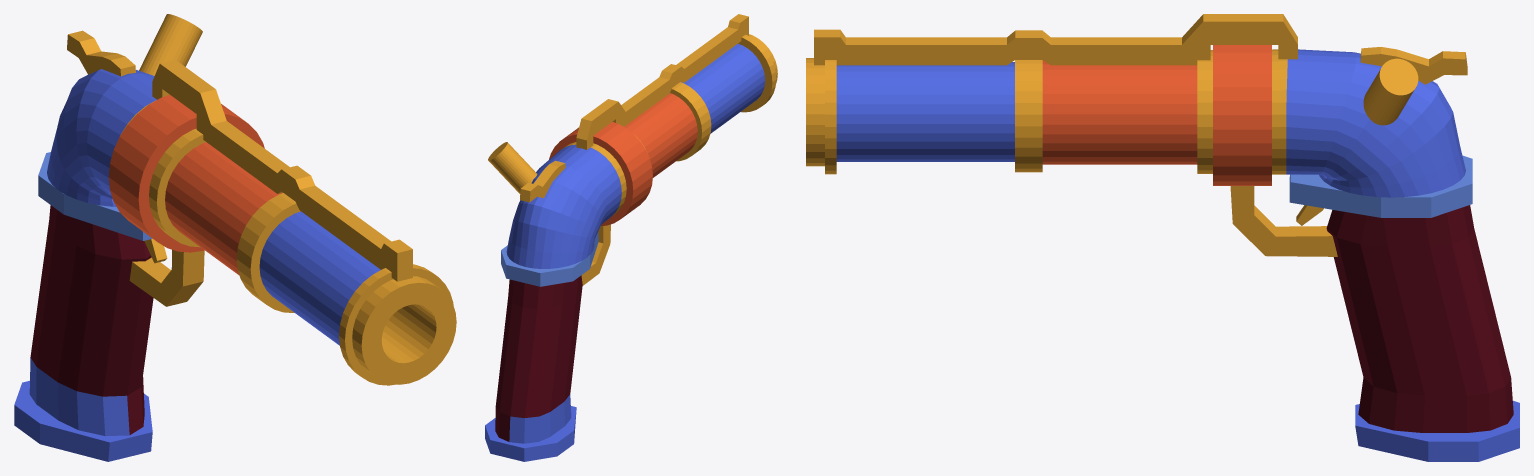
Rendered from jinx.glb.
3 renders of one model, left to right at view 1: azimuth 30°, elevation 25°; view 2: azimuth 150°, elevation 25°; view 3: azimuth 270°, elevation 25°, orthographic. The views are drawn at different scales.
Parts seen in each view (by area): view 1: barrel, handle, head; view 2: head, handle, barrel; view 3: barrel, handle, head.
Boxes of the visible parts, left/top/right/bottom form: barrel: left=152, top=59, right=456, bottom=385; handle: left=14, top=152, right=153, bottom=461; head: left=47, top=14, right=264, bottom=306; head: left=488, top=122, right=652, bottom=285; handle: left=485, top=232, right=598, bottom=461; barrel: left=576, top=14, right=777, bottom=177; barrel: left=806, top=14, right=1297, bottom=174; handle: left=1289, top=155, right=1519, bottom=461; head: left=1197, top=45, right=1467, bottom=256.
Bounding box in the file's own units: 3.49 × 9.18 × 14.21.
